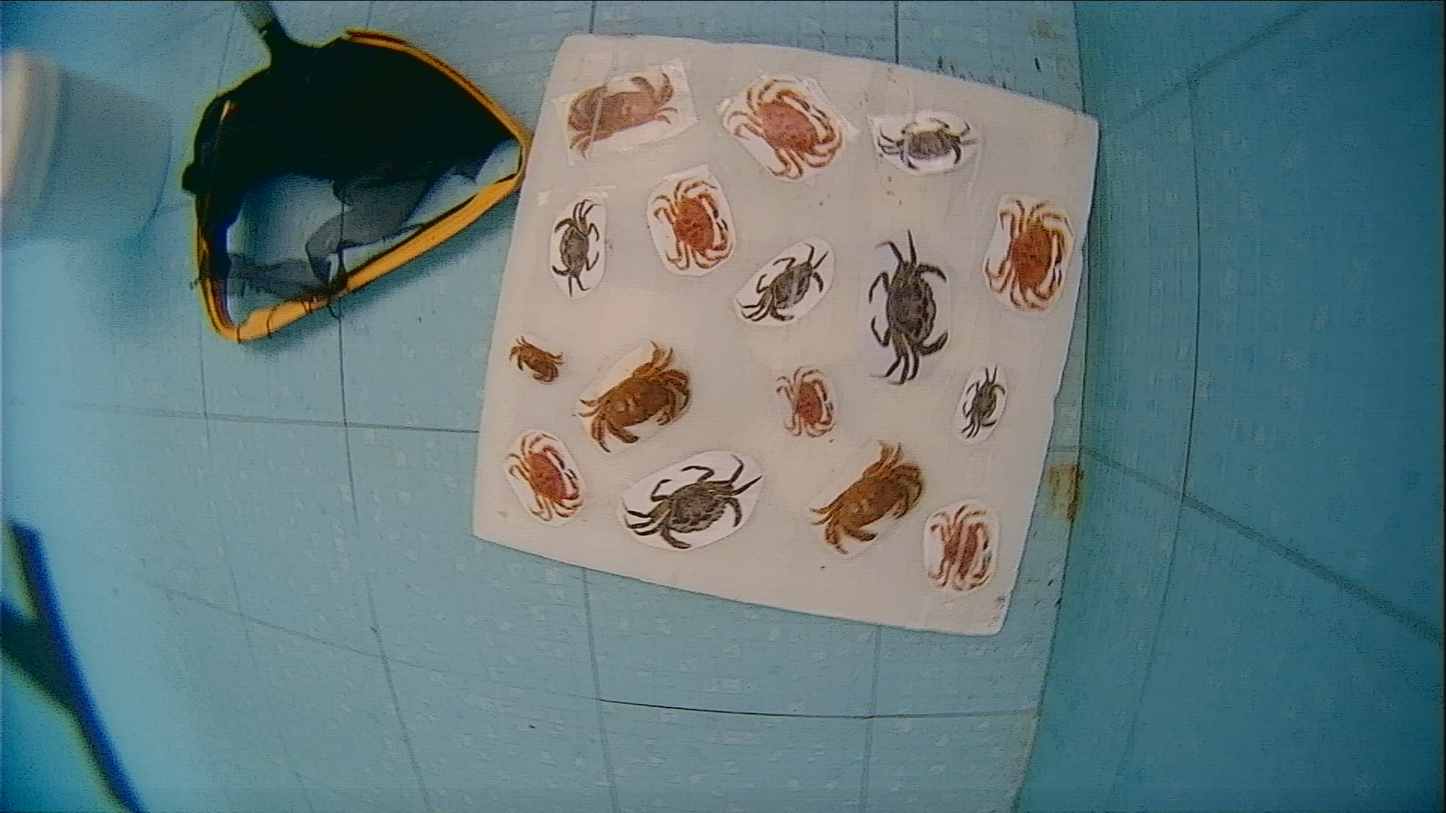GreenCrab: (625, 455, 761, 549), (867, 230, 948, 385), (744, 246, 827, 321), (879, 117, 974, 167), (550, 202, 600, 295)
